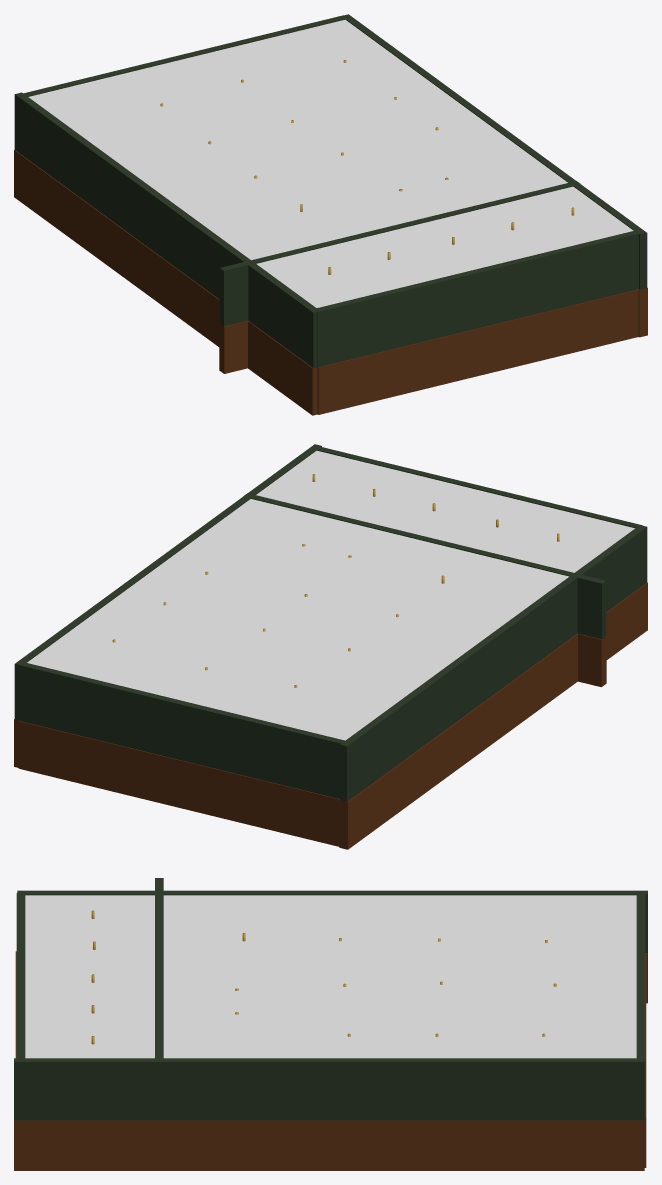
File: PubScene.fbx
The picture shows the model from 3 angles, top to bottom: view 1: azimuth 30°, elevation 25°; view 2: azimuth 150°, elevation 25°; view 3: azimuth 270°, elevation 25°; orthographic projection. The views are drawn at different scales.
Visible parts, largest first — view 1: BarFloor.003, WallModel.010, WallModel.009, WallModel.012, WallModel.008, WallModel.007, WallModel.011; view 2: BarFloor.003, WallModel.007, WallModel.009, WallModel.012, WallModel.008, WallModel.010, WallModel.011; view 3: BarFloor.003, WallModel.008, WallModel.009, WallModel.007, WallModel.010, WallModel.011, WallModel.012.
Part boxes in pixels (left/top/right/bottom): BarFloor.003: left=28, top=19, right=633, bottom=307; WallModel.010: left=315, top=230, right=638, bottom=414; WallModel.009: left=14, top=92, right=319, bottom=415; WallModel.012: left=219, top=236, right=352, bottom=373; WallModel.008: left=342, top=14, right=647, bottom=337; WallModel.007: left=21, top=15, right=346, bottom=96; WallModel.011: left=383, top=181, right=580, bottom=231; BarFloor.003: left=27, top=450, right=634, bottom=740; WallModel.007: left=18, top=662, right=347, bottom=846; WallModel.009: left=339, top=525, right=647, bottom=849; WallModel.012: left=472, top=549, right=606, bottom=687; WallModel.008: left=14, top=444, right=321, bottom=767; WallModel.010: left=316, top=447, right=642, bottom=528; WallModel.011: left=244, top=493, right=441, bottom=543; BarFloor.003: left=25, top=895, right=636, bottom=1058; WallModel.008: left=14, top=1058, right=644, bottom=1170; WallModel.009: left=17, top=890, right=647, bottom=1003; WallModel.007: left=636, top=893, right=646, bottom=1167; WallModel.010: left=15, top=893, right=25, bottom=1059; WallModel.011: left=155, top=962, right=163, bottom=1120; WallModel.012: left=155, top=878, right=163, bottom=944.
Bounding box in the file's own units: 1106 × 323 × 1608.
